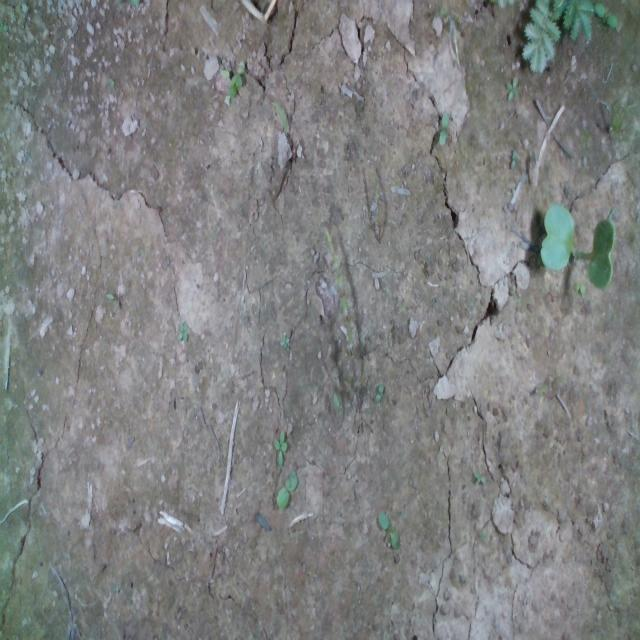weed: (377, 509, 401, 551), (276, 468, 298, 510), (274, 429, 288, 466), (504, 74, 519, 102), (438, 108, 448, 146), (176, 319, 188, 341), (374, 382, 384, 404), (573, 280, 585, 295)
